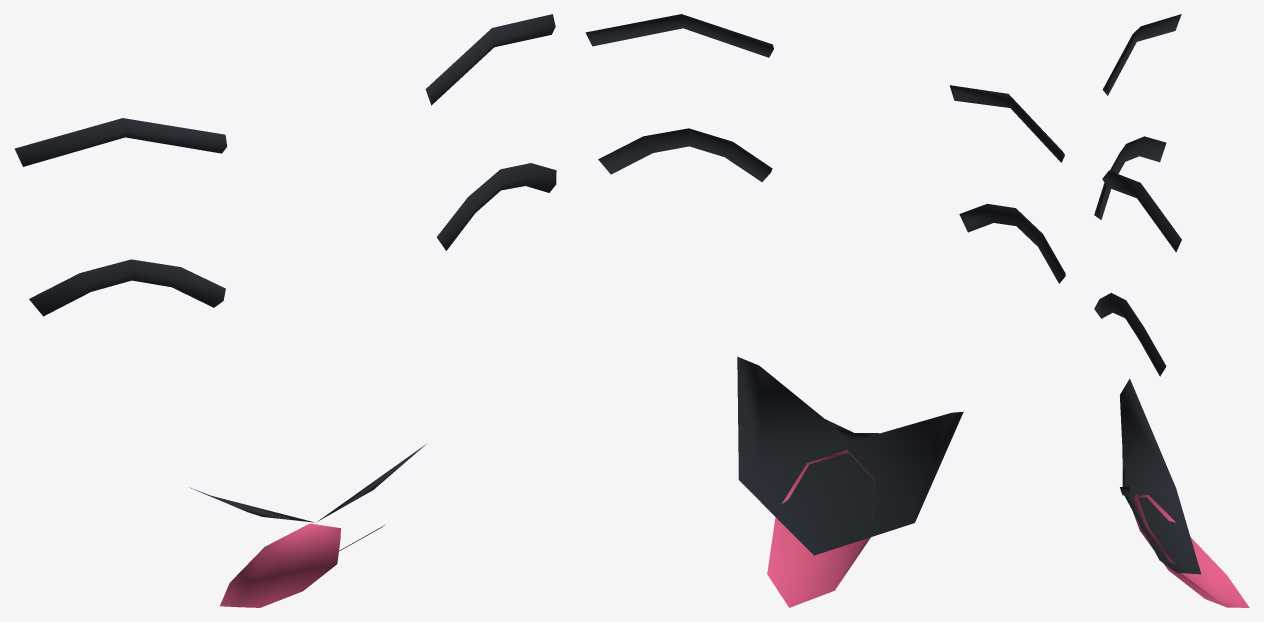
The model's file is face_prankster_01.glb.
3 renders of one model, left to right at view 1: azimuth 30°, elevation 25°; view 2: azimuth 150°, elevation 25°; view 3: azimuth 270°, elevation 25°, orthographic. The views are drawn at different scales.
Visible parts, largest first — view 1: Relief prankster; view 2: Relief prankster; view 3: Relief prankster.
Boxes of the visible parts, box(x1,y1,x2,y2) form: Relief prankster: box(15, 14, 556, 607); Relief prankster: box(585, 14, 1065, 607); Relief prankster: box(1094, 14, 1249, 607).
Bounding box in the file's own units: 0.1897 × 0.195 × 0.0547.
